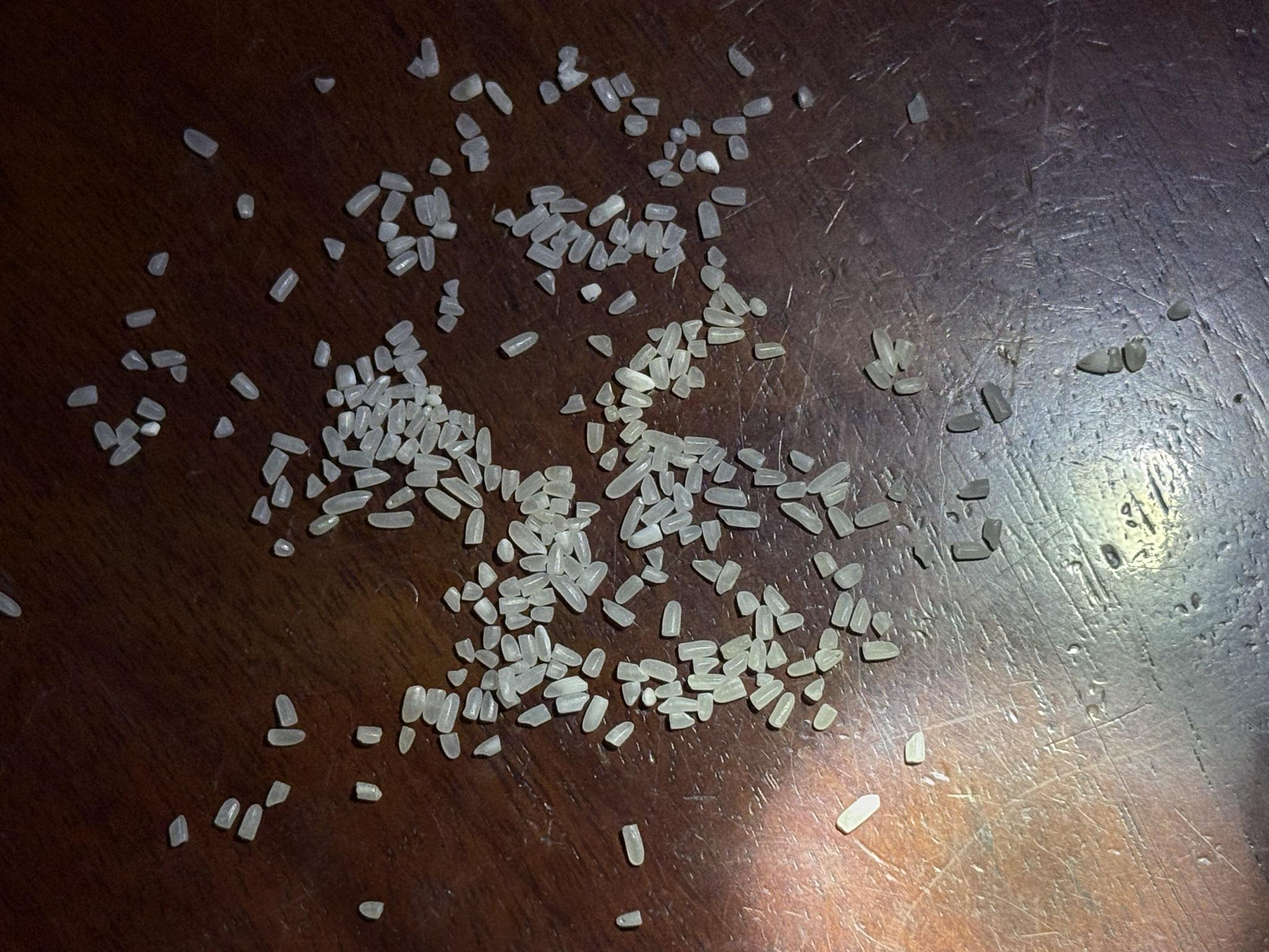Rice-th-y-nh: (604, 450, 653, 503), (835, 789, 882, 837), (806, 456, 850, 498), (548, 571, 590, 614), (867, 326, 902, 377), (779, 500, 824, 536), (615, 495, 648, 542), (642, 424, 686, 459), (718, 502, 762, 536), (507, 519, 547, 556), (441, 475, 484, 509), (511, 203, 551, 238), (575, 558, 610, 598), (397, 683, 430, 725), (322, 488, 371, 516), (541, 673, 587, 702), (618, 823, 649, 866), (854, 497, 892, 532), (704, 482, 748, 512), (493, 666, 523, 710), (677, 633, 717, 666), (588, 193, 625, 228), (711, 673, 748, 708), (424, 487, 462, 520), (654, 320, 686, 359), (513, 469, 547, 505), (718, 281, 751, 318), (845, 597, 876, 636), (713, 558, 744, 597), (686, 667, 729, 695), (345, 184, 381, 217), (530, 213, 566, 246), (513, 661, 549, 694), (656, 600, 687, 638), (581, 694, 610, 734), (696, 199, 725, 239), (640, 495, 675, 528), (600, 596, 636, 628), (615, 366, 656, 394), (828, 590, 857, 629), (639, 656, 678, 685), (953, 537, 992, 566), (706, 321, 745, 350), (832, 559, 865, 593), (748, 679, 784, 710), (627, 521, 664, 551), (862, 635, 899, 665), (435, 693, 462, 734), (470, 427, 497, 468), (261, 447, 290, 485), (767, 691, 796, 729), (750, 603, 778, 642), (760, 583, 790, 619), (419, 688, 448, 725), (460, 508, 489, 545), (702, 305, 743, 331), (526, 242, 564, 270), (654, 243, 687, 275), (641, 220, 668, 259), (183, 128, 218, 158), (567, 228, 596, 264), (623, 219, 652, 255), (530, 623, 556, 663), (593, 76, 621, 113), (501, 331, 539, 358), (658, 691, 699, 716), (947, 408, 982, 437), (645, 355, 673, 391), (513, 632, 541, 668), (744, 637, 771, 674), (570, 531, 597, 568), (613, 574, 645, 605), (485, 81, 514, 115), (269, 268, 298, 302), (719, 632, 753, 661), (902, 730, 930, 765), (411, 192, 439, 227), (683, 430, 718, 458), (457, 452, 484, 488), (368, 510, 414, 531), (811, 548, 841, 580), (362, 374, 391, 407), (957, 476, 990, 505), (270, 431, 308, 456), (385, 399, 411, 435), (413, 235, 439, 271), (864, 359, 894, 390), (827, 505, 856, 537), (238, 803, 263, 840), (109, 438, 142, 466), (404, 406, 432, 439), (321, 425, 349, 458), (419, 37, 442, 77), (667, 346, 694, 380), (698, 518, 725, 552), (659, 510, 693, 537), (460, 686, 486, 721), (698, 444, 727, 475), (628, 342, 657, 373), (722, 650, 751, 681), (450, 73, 482, 101), (690, 557, 723, 584), (431, 186, 455, 223), (270, 475, 296, 509), (367, 395, 392, 430), (753, 466, 788, 491), (893, 372, 928, 397), (517, 702, 552, 727), (374, 432, 402, 463), (820, 482, 851, 510), (727, 46, 754, 78), (378, 170, 414, 194), (753, 337, 785, 364), (497, 469, 523, 502), (681, 462, 707, 495), (582, 420, 608, 453), (548, 195, 587, 217), (413, 451, 452, 473), (979, 517, 1005, 550), (615, 660, 649, 685), (230, 372, 260, 400), (604, 719, 634, 747), (555, 692, 590, 716), (542, 477, 577, 501), (543, 542, 567, 577), (381, 190, 407, 222), (519, 490, 551, 516), (669, 482, 695, 514), (775, 477, 807, 503), (498, 632, 524, 664), (580, 647, 606, 679), (337, 447, 373, 470), (476, 691, 501, 724), (637, 473, 662, 506), (274, 694, 299, 727), (550, 643, 583, 668), (393, 348, 427, 372), (530, 183, 564, 207), (734, 588, 761, 618), (395, 436, 421, 467), (213, 797, 239, 828), (736, 446, 767, 472), (543, 460, 574, 486), (713, 114, 748, 137), (712, 184, 747, 207), (777, 609, 805, 637), (454, 112, 482, 140), (699, 264, 727, 292), (385, 319, 414, 346), (869, 609, 896, 638), (418, 421, 441, 455), (644, 201, 678, 224), (473, 596, 499, 626), (473, 733, 503, 759), (607, 217, 633, 247), (267, 727, 306, 747), (586, 240, 611, 271), (384, 485, 415, 510), (480, 462, 505, 493), (787, 655, 818, 680), (388, 249, 419, 274), (385, 234, 417, 258), (385, 380, 417, 404), (406, 467, 439, 490), (619, 418, 648, 444), (560, 554, 586, 583), (608, 290, 637, 316), (661, 221, 687, 250), (813, 703, 839, 732), (351, 405, 373, 439), (519, 551, 550, 575), (358, 426, 385, 453), (265, 780, 291, 808), (436, 422, 462, 450), (557, 219, 583, 247), (620, 387, 653, 409), (765, 640, 789, 670), (445, 436, 475, 460), (528, 585, 558, 609), (907, 94, 931, 124), (694, 691, 717, 722), (894, 338, 917, 369), (67, 385, 99, 407), (679, 316, 705, 343), (115, 418, 140, 446), (548, 233, 573, 261), (137, 397, 166, 421), (619, 678, 643, 707), (438, 731, 462, 760), (648, 444, 671, 474), (459, 134, 489, 157), (559, 68, 589, 91), (789, 448, 816, 473), (473, 646, 500, 671), (587, 333, 614, 358), (453, 637, 478, 664), (476, 561, 500, 589), (593, 380, 617, 408), (168, 815, 189, 847), (670, 372, 693, 401), (520, 576, 549, 599), (354, 355, 376, 385), (654, 678, 684, 700), (0, 589, 22, 619), (335, 411, 357, 441), (742, 96, 773, 117), (309, 515, 340, 536), (498, 594, 529, 615), (610, 72, 635, 98), (544, 657, 569, 683), (342, 383, 367, 409), (402, 365, 429, 389), (712, 461, 739, 485), (817, 649, 844, 673), (668, 710, 696, 733), (393, 334, 421, 357), (456, 411, 479, 439), (480, 623, 503, 651), (560, 393, 588, 416), (529, 603, 557, 626), (151, 349, 186, 367), (679, 523, 704, 548), (625, 438, 651, 462), (804, 677, 828, 703), (94, 421, 118, 447), (334, 364, 358, 390), (498, 574, 522, 600), (372, 345, 395, 372), (480, 667, 503, 694), (494, 537, 517, 564), (125, 308, 156, 328), (504, 610, 532, 632), (430, 219, 458, 241), (553, 529, 575, 557), (631, 96, 660, 117), (606, 244, 631, 268), (696, 150, 721, 174), (817, 626, 841, 651), (644, 545, 667, 571), (466, 151, 492, 174), (623, 113, 649, 136), (442, 586, 464, 613), (397, 725, 417, 754), (615, 908, 644, 928), (685, 365, 708, 390), (460, 580, 485, 603), (305, 473, 327, 499), (598, 446, 620, 472), (727, 135, 749, 161), (355, 781, 382, 802), (647, 158, 674, 179), (617, 404, 644, 425), (558, 48, 579, 75), (692, 655, 719, 676), (670, 451, 698, 471), (641, 565, 669, 585), (706, 245, 729, 269), (686, 337, 710, 360), (377, 220, 401, 243), (539, 80, 561, 105), (536, 270, 557, 296), (122, 350, 148, 371), (678, 148, 699, 174), (575, 498, 601, 519), (658, 469, 678, 496), (358, 900, 385, 920), (1105, 347, 1125, 374), (323, 237, 346, 260), (747, 295, 770, 318), (321, 458, 342, 483), (796, 85, 817, 110), (659, 169, 685, 189), (313, 340, 332, 367), (548, 496, 572, 517), (439, 298, 465, 317), (429, 403, 451, 425), (214, 416, 235, 439), (494, 208, 518, 228), (251, 496, 269, 522), (437, 313, 459, 334), (538, 523, 558, 546), (407, 57, 427, 80), (429, 157, 452, 177), (580, 282, 603, 302), (356, 725, 383, 742), (446, 668, 469, 687), (708, 290, 727, 312), (325, 388, 345, 408), (682, 118, 702, 138), (273, 540, 296, 557), (647, 325, 668, 343), (753, 670, 774, 688), (661, 140, 679, 161), (603, 403, 621, 424), (403, 399, 420, 421), (169, 364, 188, 383), (670, 127, 687, 146), (641, 687, 657, 707), (140, 421, 161, 436), (425, 393, 442, 408)
